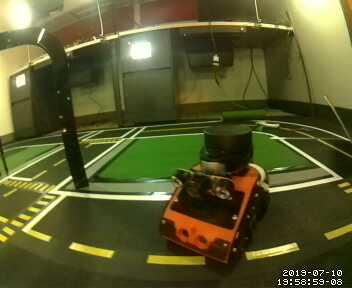pheeno: (157, 123, 272, 274)
